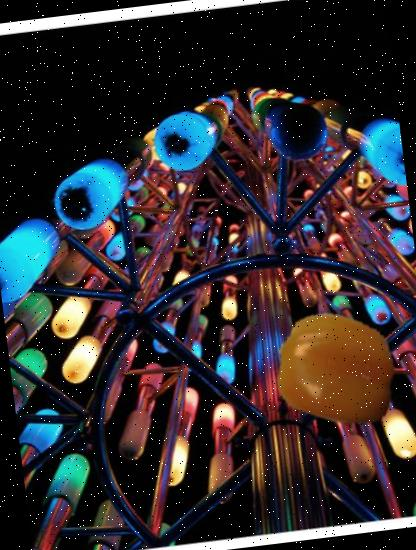Pepper: (270, 301, 405, 437)
